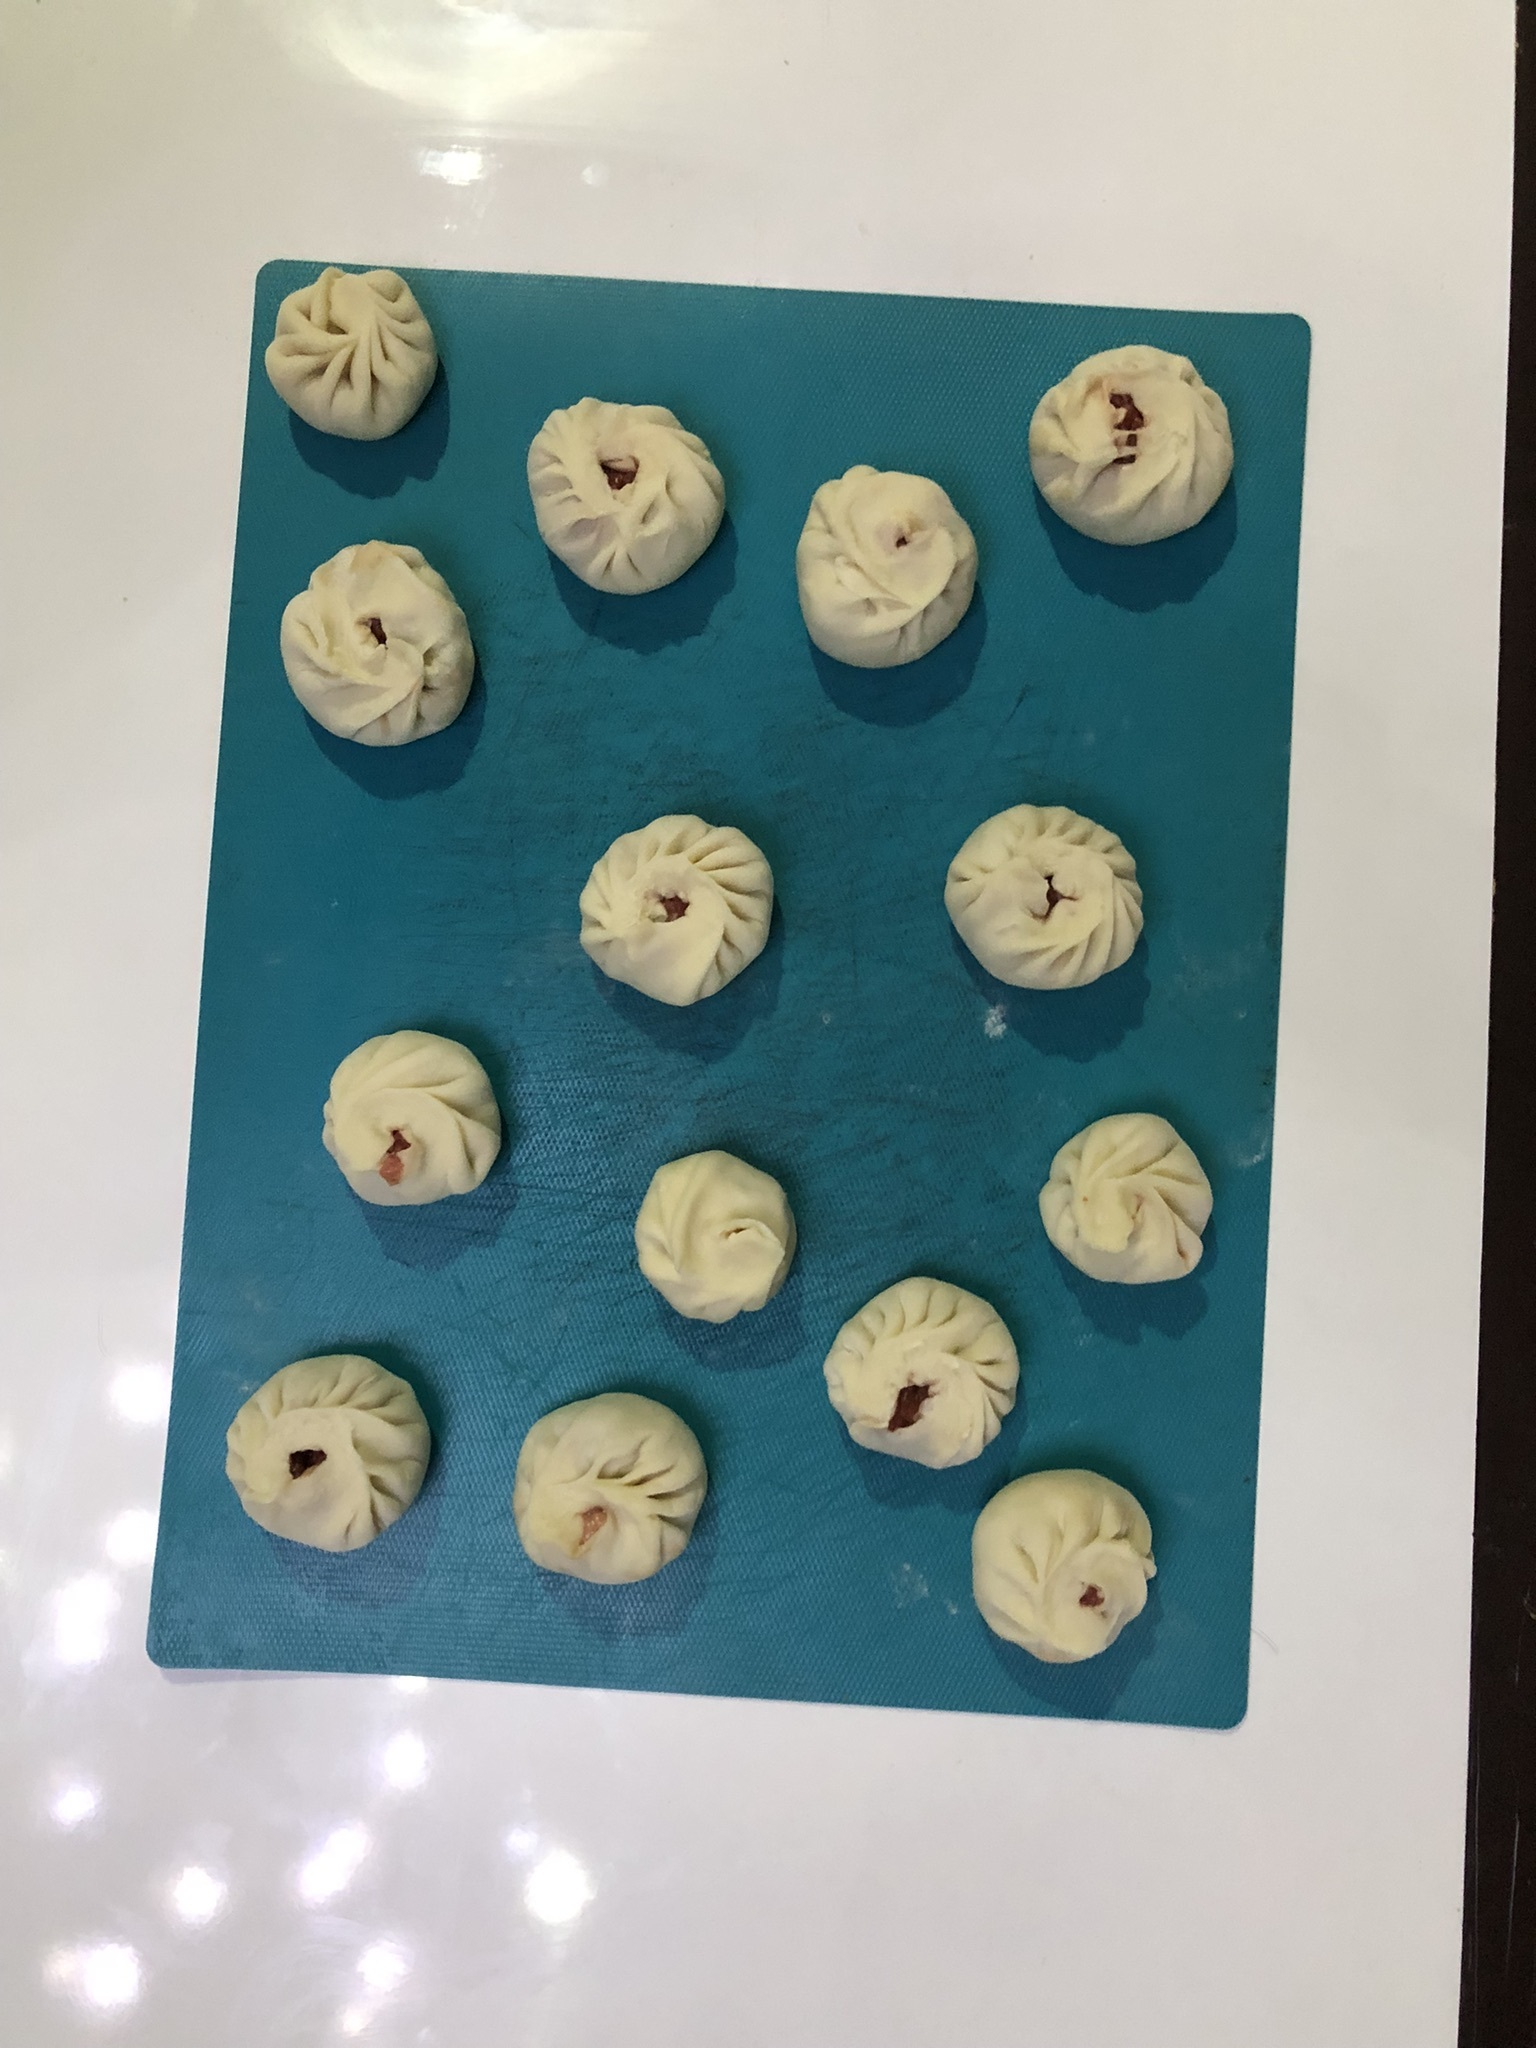buuz: (265, 531, 487, 761), (1013, 332, 1242, 555), (216, 1343, 445, 1563), (516, 389, 744, 605), (808, 1264, 1039, 1474), (570, 797, 787, 1018), (933, 793, 1158, 1005), (786, 456, 992, 679), (507, 1380, 715, 1595), (960, 1461, 1165, 1679), (311, 1021, 515, 1221), (1028, 1103, 1225, 1295), (621, 1138, 808, 1335), (258, 263, 447, 450)
